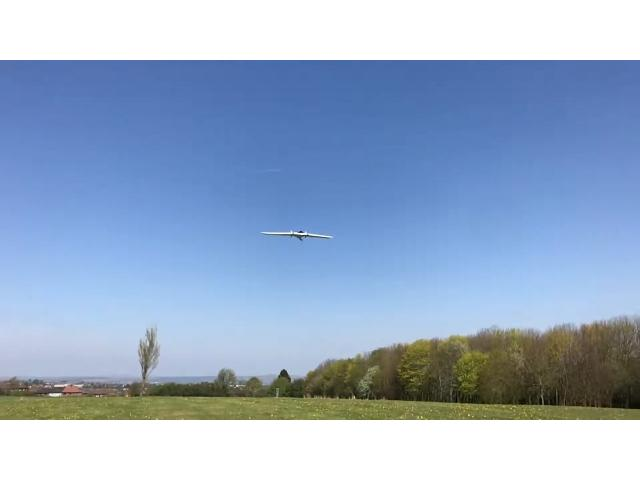Anti-Drone: (260, 227, 334, 242)
